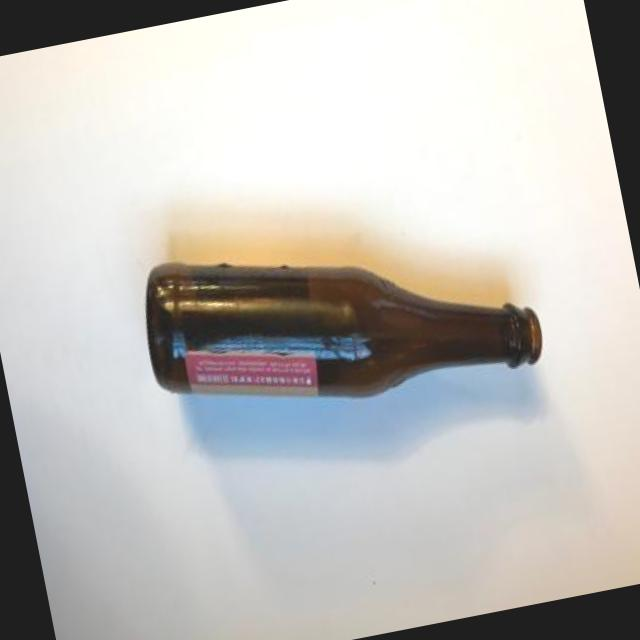chai_thuy_tinh: (145, 260, 544, 396)
